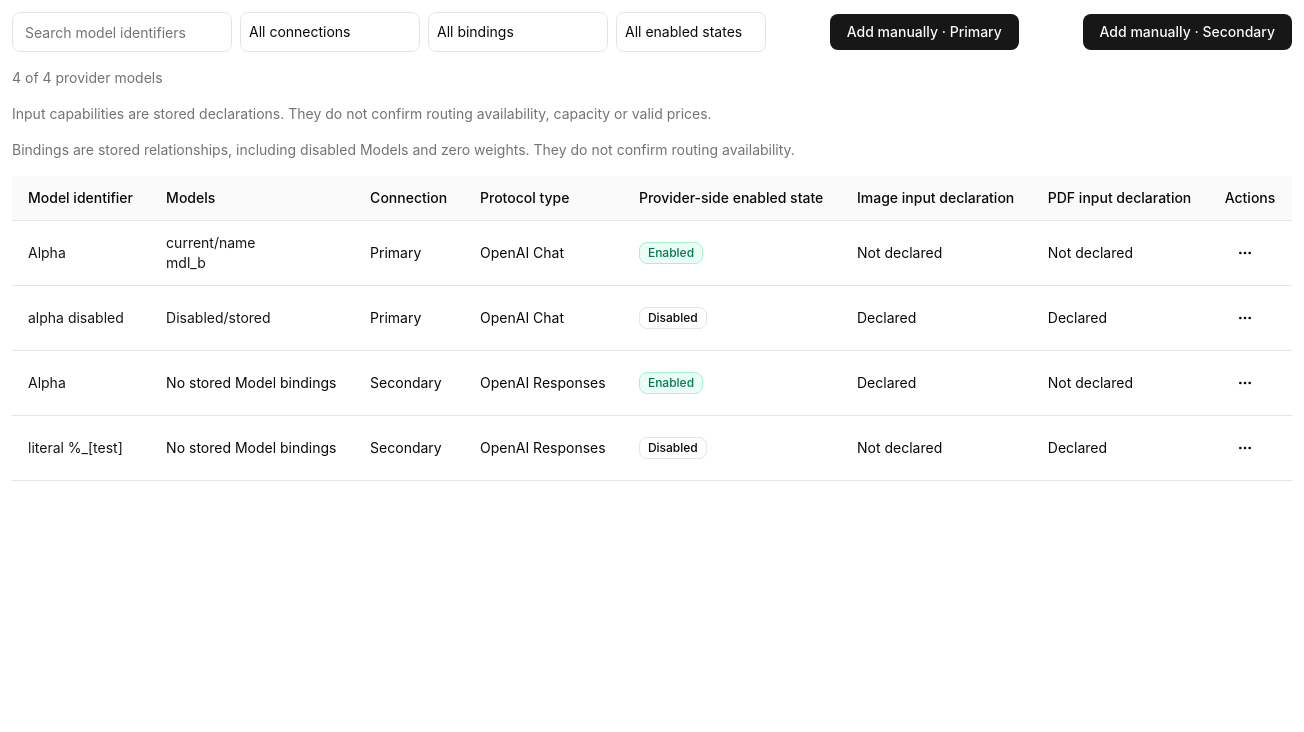
keeps non-administrator unbound menus scoped to details and status
The width and height of the screenshot is (1304, 732).
Click the 2nd button named "More actions for Alpha": (1245, 383) [1225,363,1265,403]
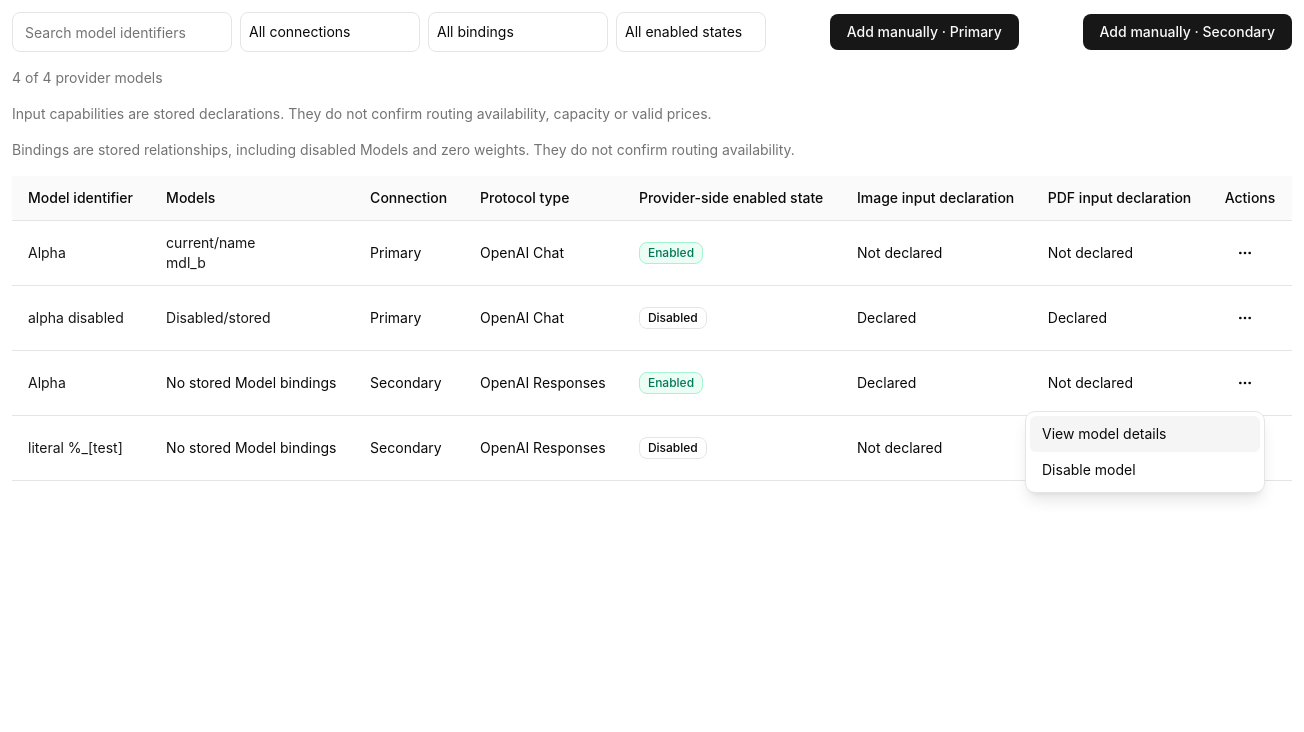
Result: the menu item "Disable model" is shown at [1042,461,1136,478]
